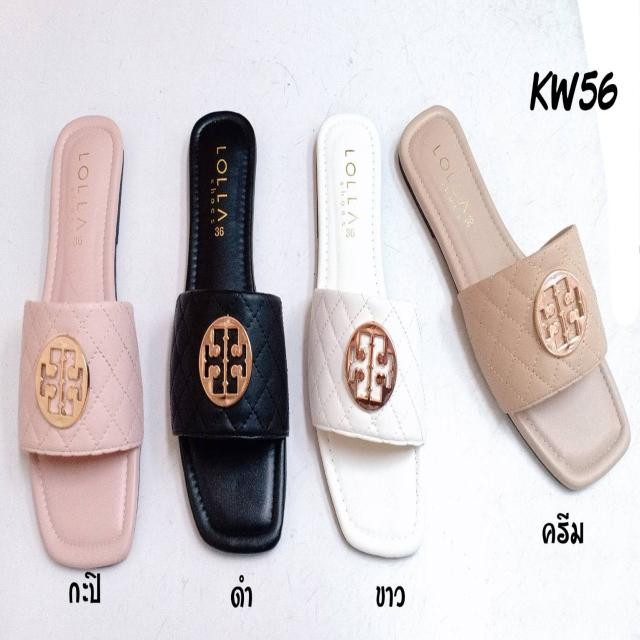black: (177, 112, 286, 557)
cream: (398, 107, 631, 493)
kapi: (24, 109, 144, 569)
white: (309, 114, 422, 562)
